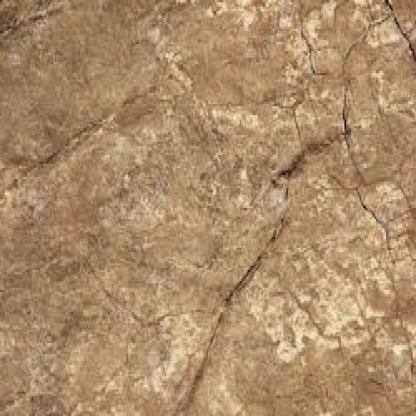Metamorphic_Quartize: (3, 0, 414, 414)
